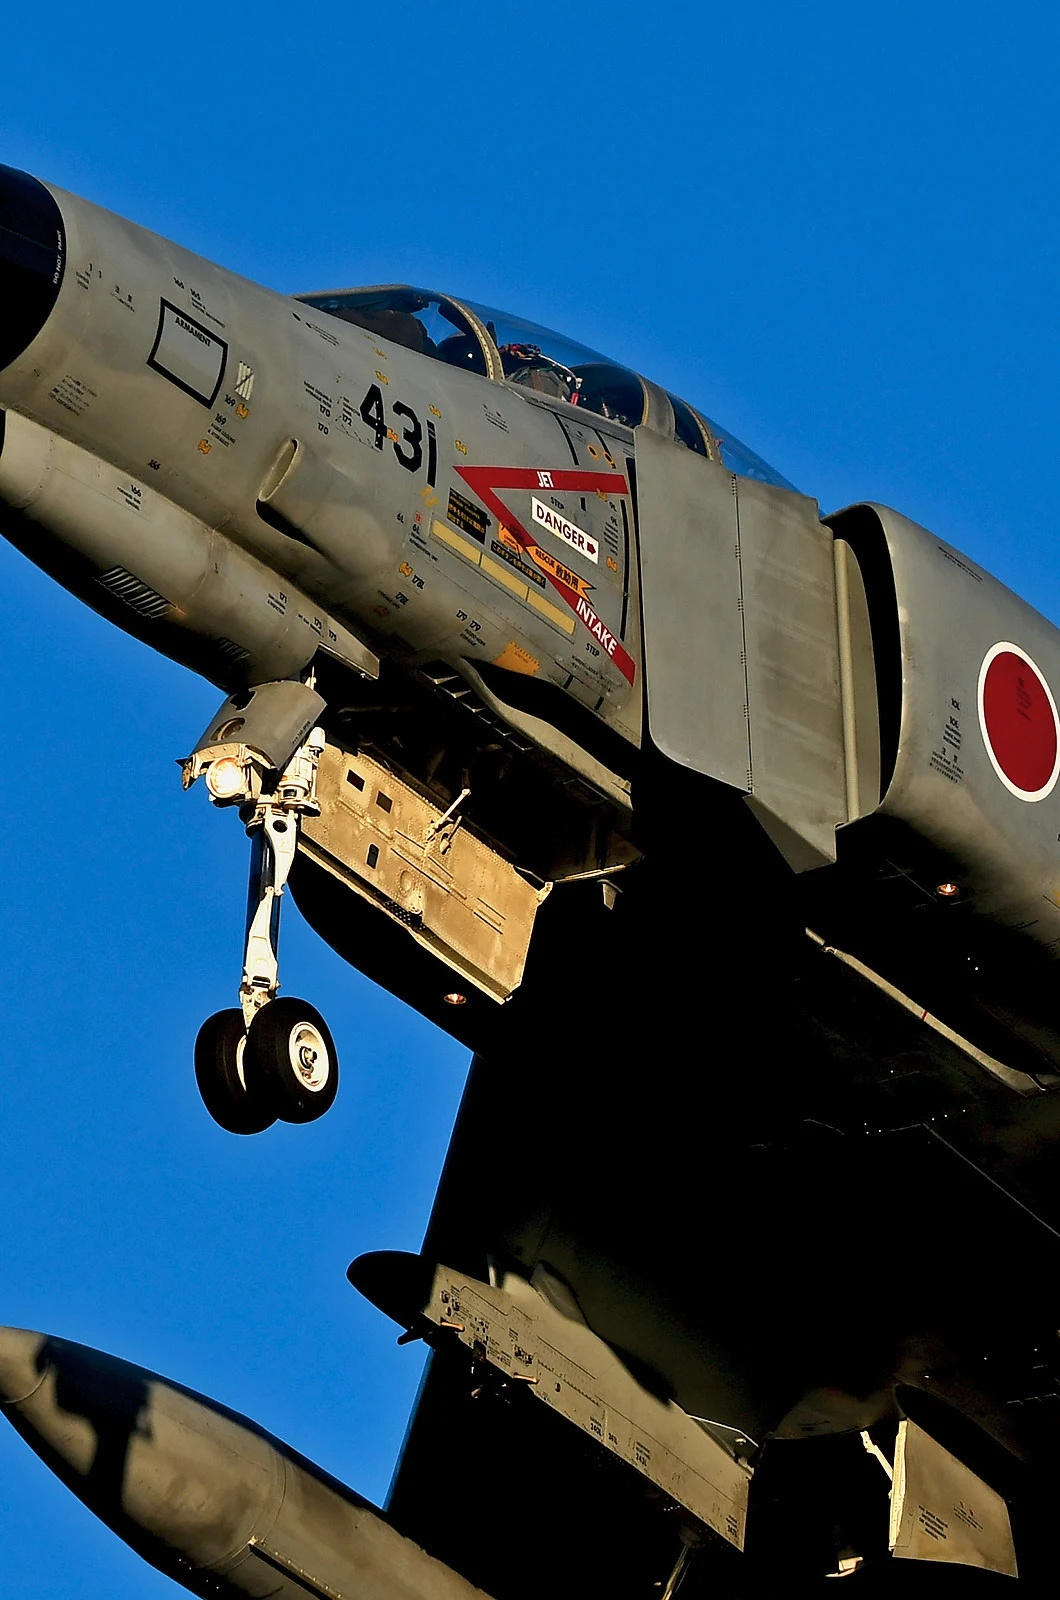F4: (1, 162, 1060, 1600)
